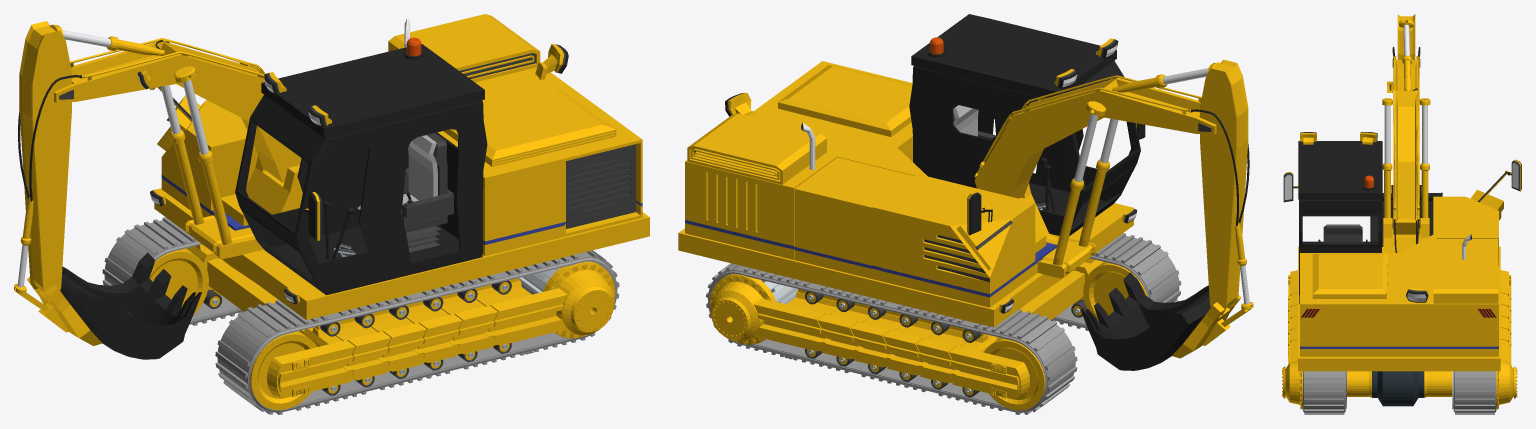
File: Excavator.fbx
The picture shows the model from 3 angles, left to right: view 1: azimuth 30°, elevation 25°; view 2: azimuth 150°, elevation 25°; view 3: azimuth 270°, elevation 25°; orthographic projection. The views are drawn at different scales.
Parts seen in each view (by area): view 1: Excavator1; view 2: Excavator1; view 3: Excavator1.
Part boxes in pixels (left/top/right/bottom): Excavator1: left=14, top=14, right=649, bottom=414; Excavator1: left=678, top=14, right=1253, bottom=414; Excavator1: left=1282, top=14, right=1521, bottom=414.
Bounding box in the file's own units: 16.91 × 10.69 × 9.41.
